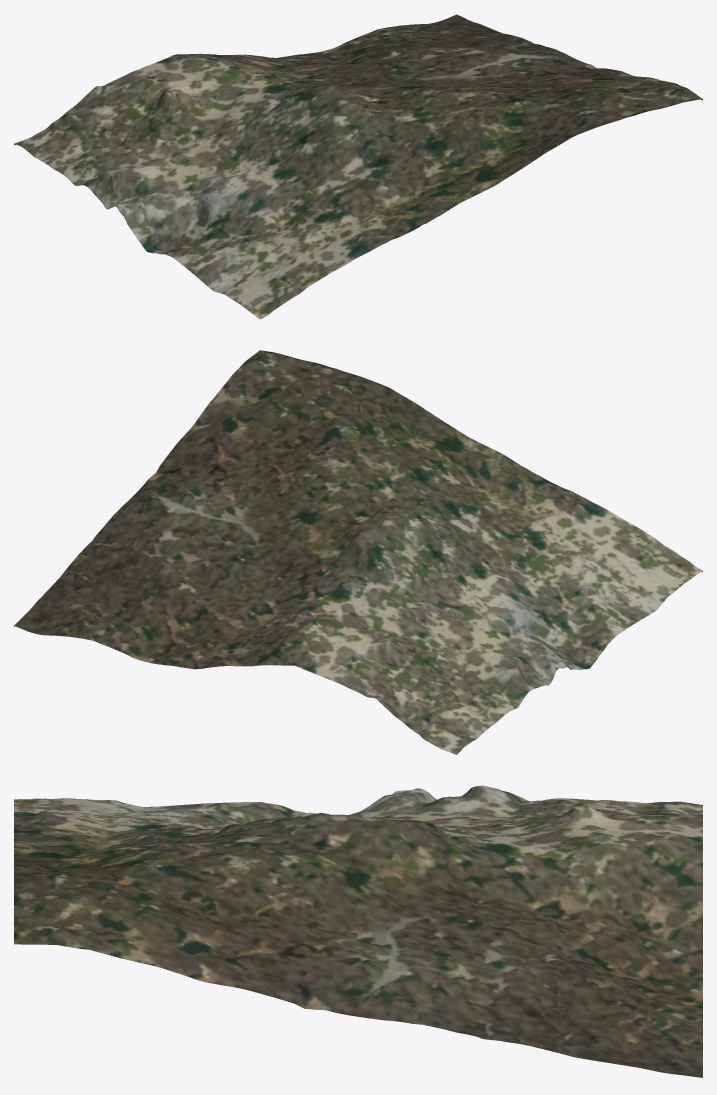
3 renders of one model, top to bottom at view 1: azimuth 30°, elevation 25°; view 2: azimuth 150°, elevation 25°; view 3: azimuth 270°, elevation 25°, orthographic. The views are drawn at different scales.
Bounding box in the file's own units: 250 × 71.51 × 241.
1 material, 1 textured.
